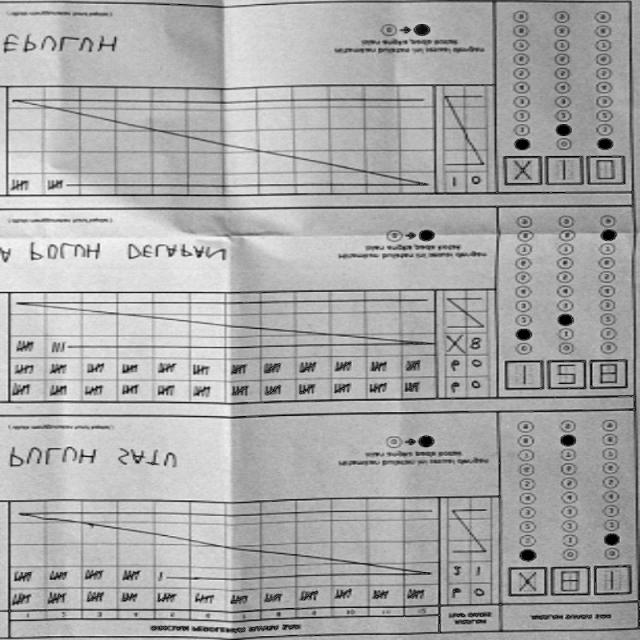Suara: (506, 558, 638, 598), (502, 354, 634, 387), (506, 154, 633, 182)
